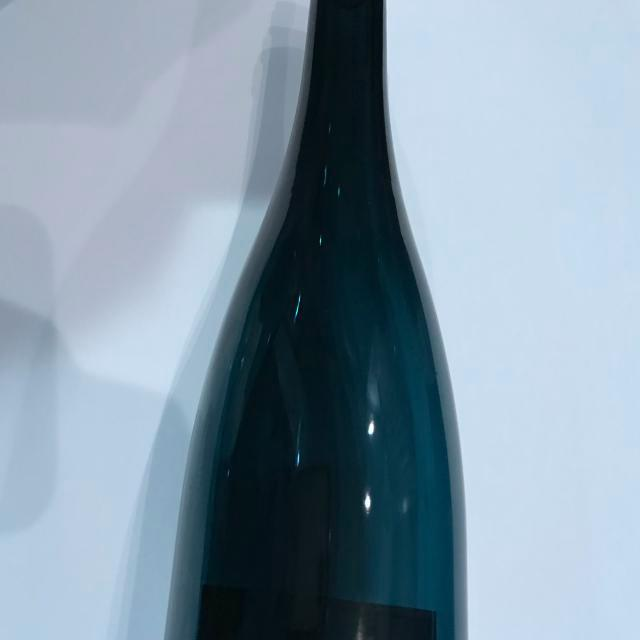glass: (192, 0, 487, 640)
